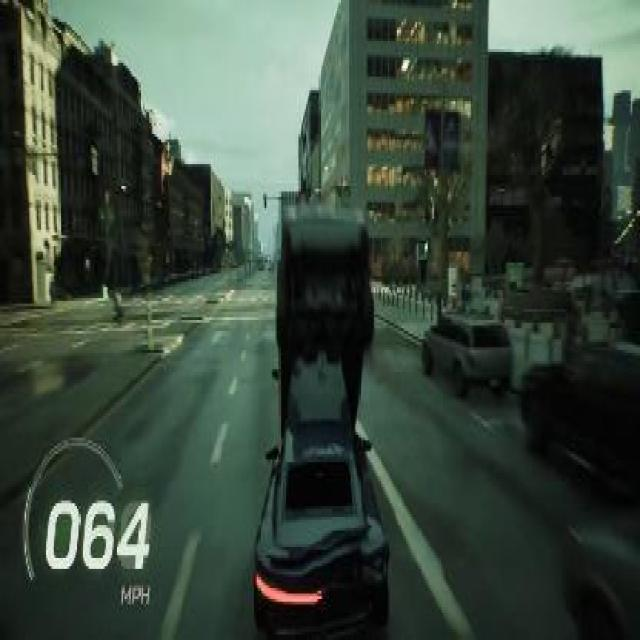accident: (244, 183, 396, 638)
